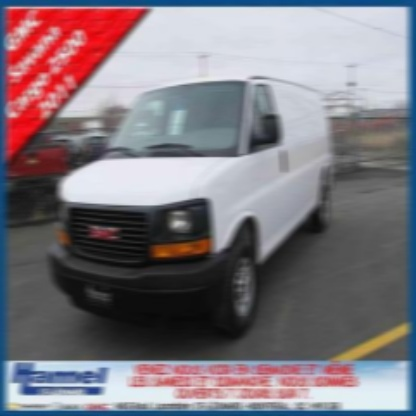Vehicle: (48, 72, 335, 342)
